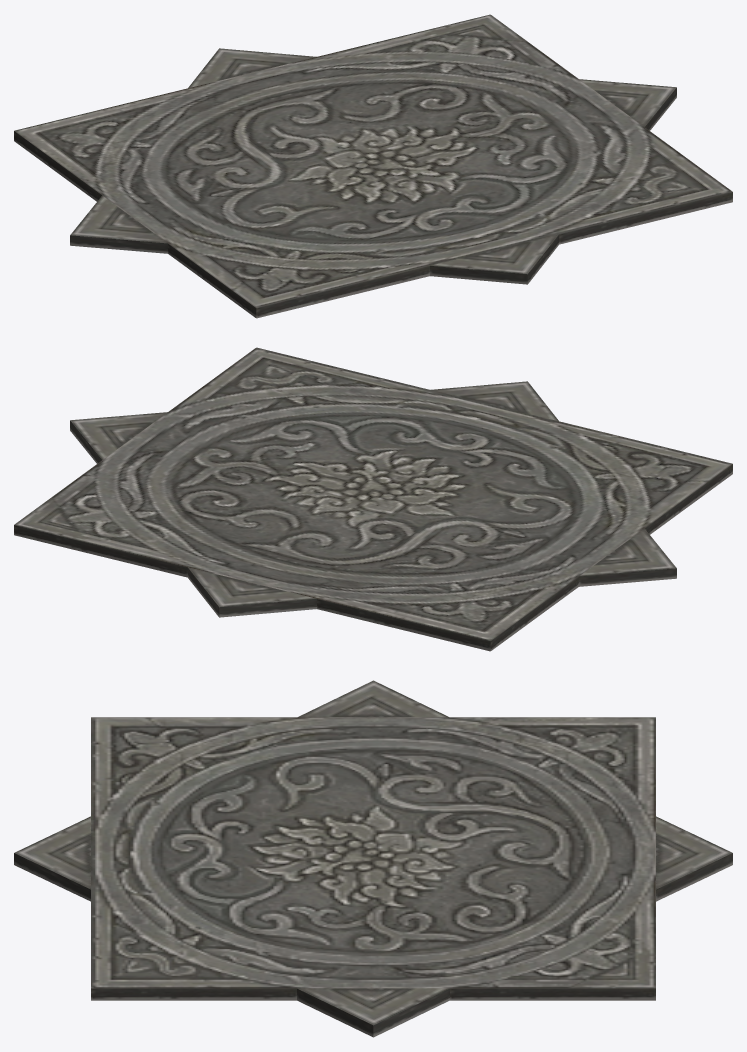
The model's file is aaad11.FBX.
3 renders of one model, top to bottom at view 1: azimuth 30°, elevation 25°; view 2: azimuth 150°, elevation 25°; view 3: azimuth 270°, elevation 25°, orthographic. The views are drawn at different scales.
Parts seen in each view (by area): view 1: s7_unioncity_jianzhu_pingtai_01; view 2: s7_unioncity_jianzhu_pingtai_01; view 3: s7_unioncity_jianzhu_pingtai_01.
Part boxes in pixels (bbox=[...]): s7_unioncity_jianzhu_pingtai_01: bbox=[14, 14, 732, 318]; s7_unioncity_jianzhu_pingtai_01: bbox=[14, 347, 732, 651]; s7_unioncity_jianzhu_pingtai_01: bbox=[14, 680, 732, 1037].
Bounding box in the file's own units: 9.42 × 0.1541 × 8.3.
